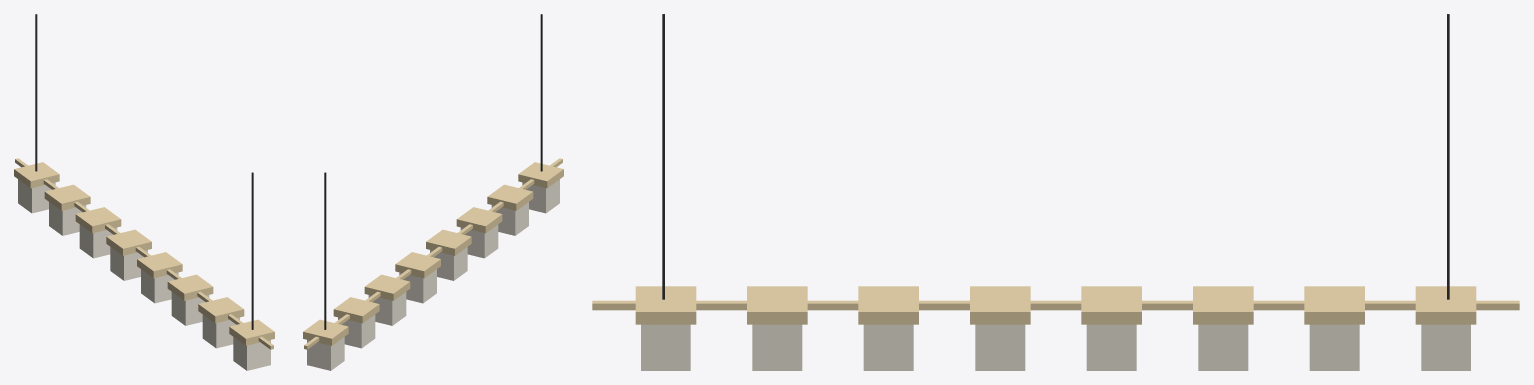
Rendered from SM_Pendant_Linear.fbx.
The picture shows the model from 3 angles, left to right: view 1: azimuth 30°, elevation 25°; view 2: azimuth 150°, elevation 25°; view 3: azimuth 270°, elevation 25°; orthographic projection. The views are drawn at different scales.
Parts seen in each view (by area): view 1: SM_Pendant_Linear; view 2: SM_Pendant_Linear; view 3: SM_Pendant_Linear.
Part boxes in pixels (x1,y1,x2,y2): SM_Pendant_Linear: [14, 14, 274, 370]; SM_Pendant_Linear: [303, 14, 563, 370]; SM_Pendant_Linear: [592, 14, 1519, 370].
Bounding box in the file's own units: 17 × 107 × 260.
